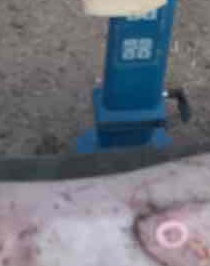text: (151, 206, 197, 264)
